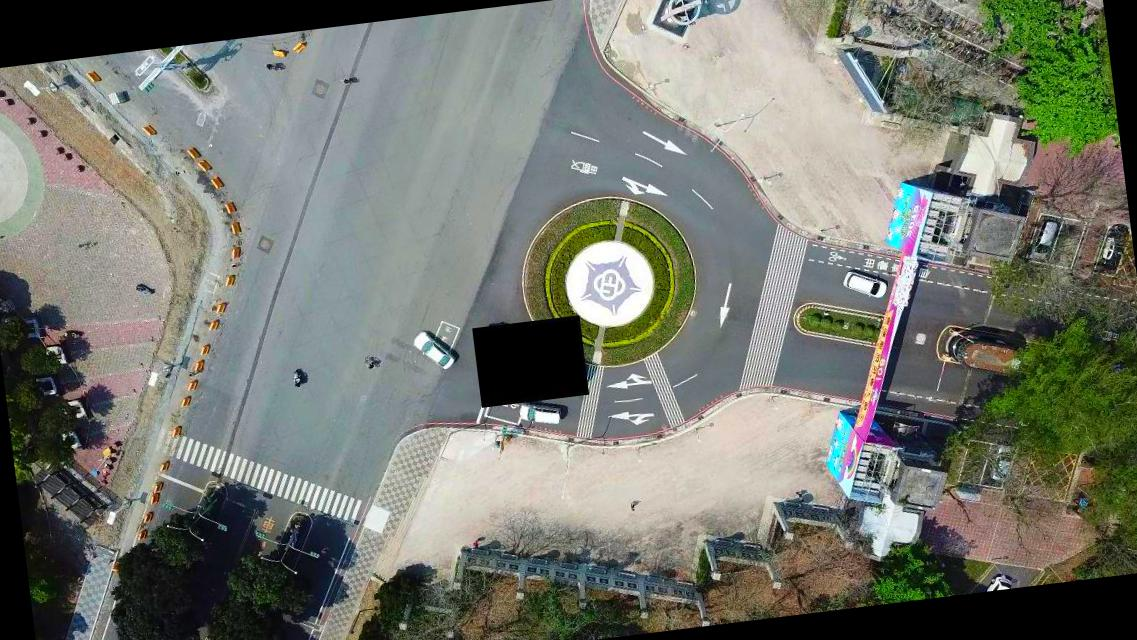vehicle: (1092, 222, 1132, 278), (411, 327, 456, 373), (1021, 215, 1062, 262), (840, 268, 888, 304), (985, 440, 1017, 482), (518, 398, 562, 428), (982, 572, 1015, 590)
